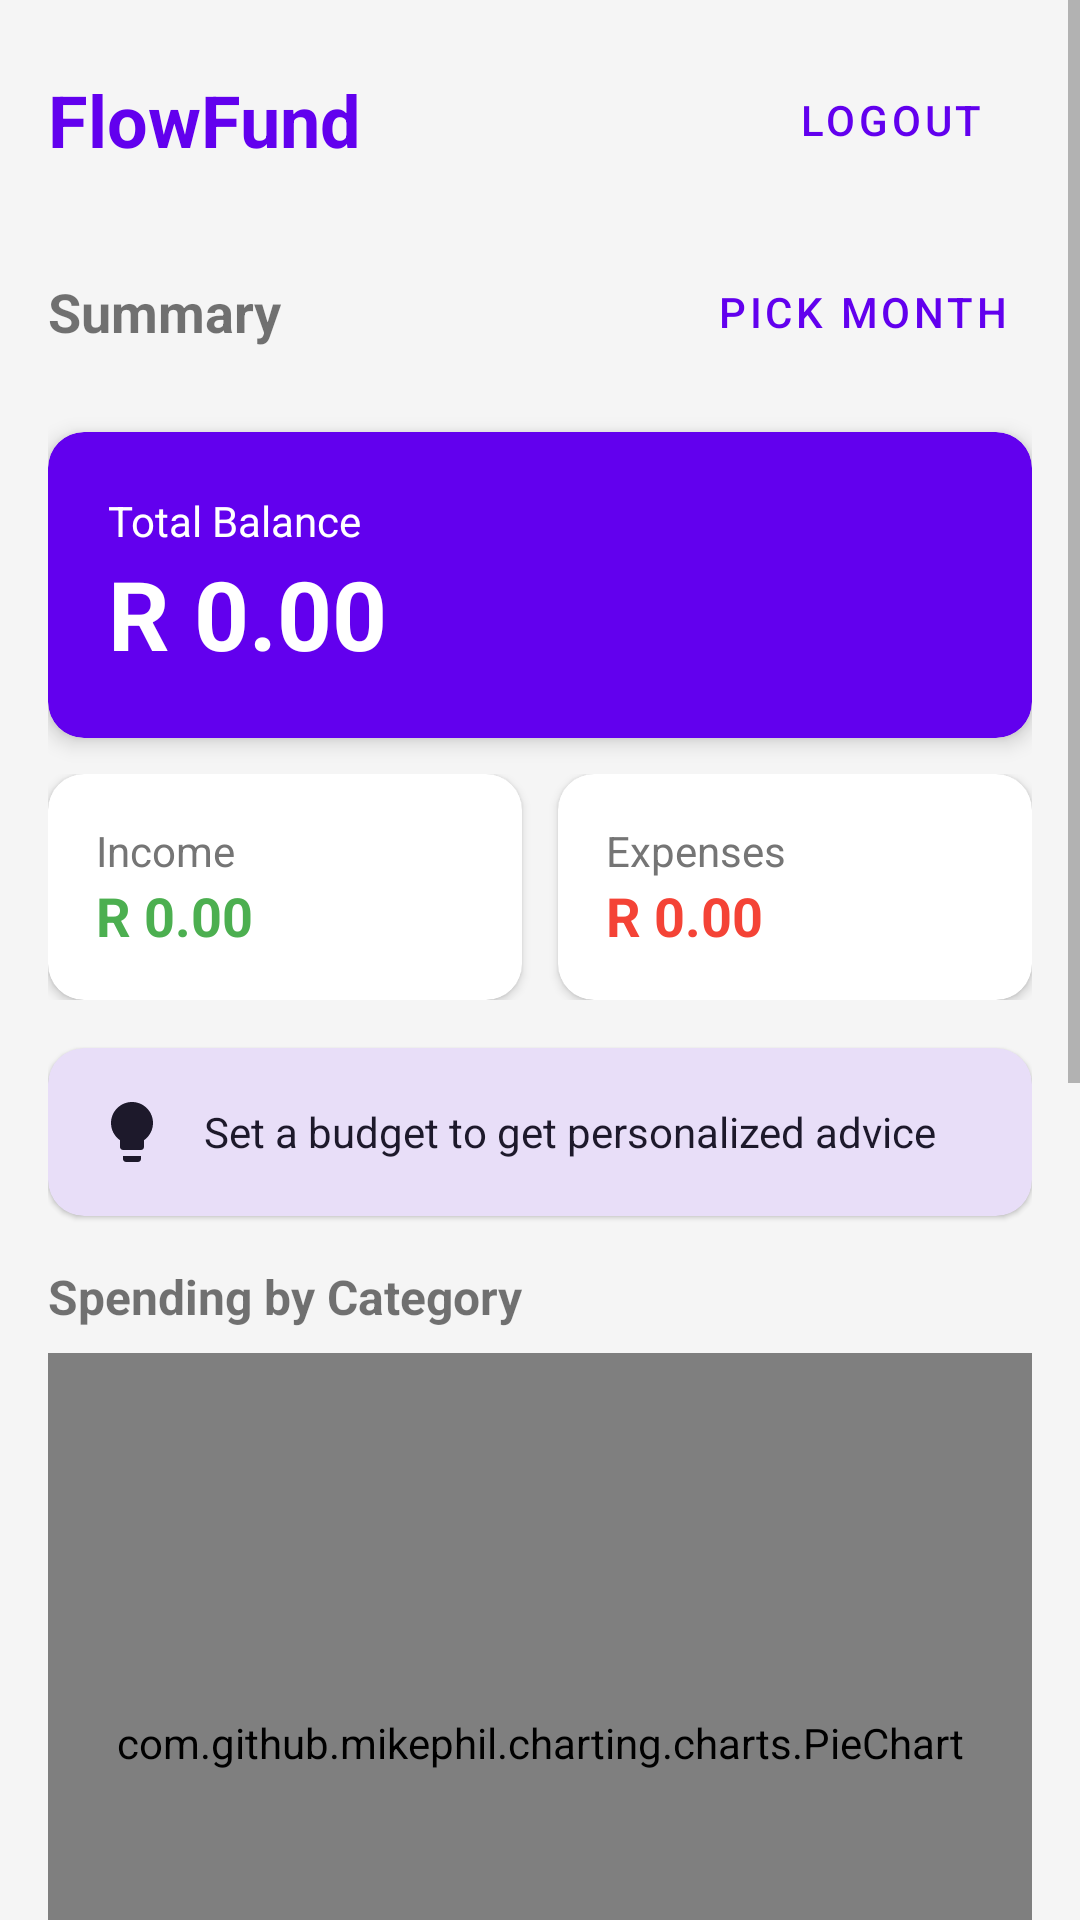

Screen size 1080 × 1920. Icon name, then its box in pixels as (x1,y1,x2,y2):
lightbulb: (111,1102,153,1162)
